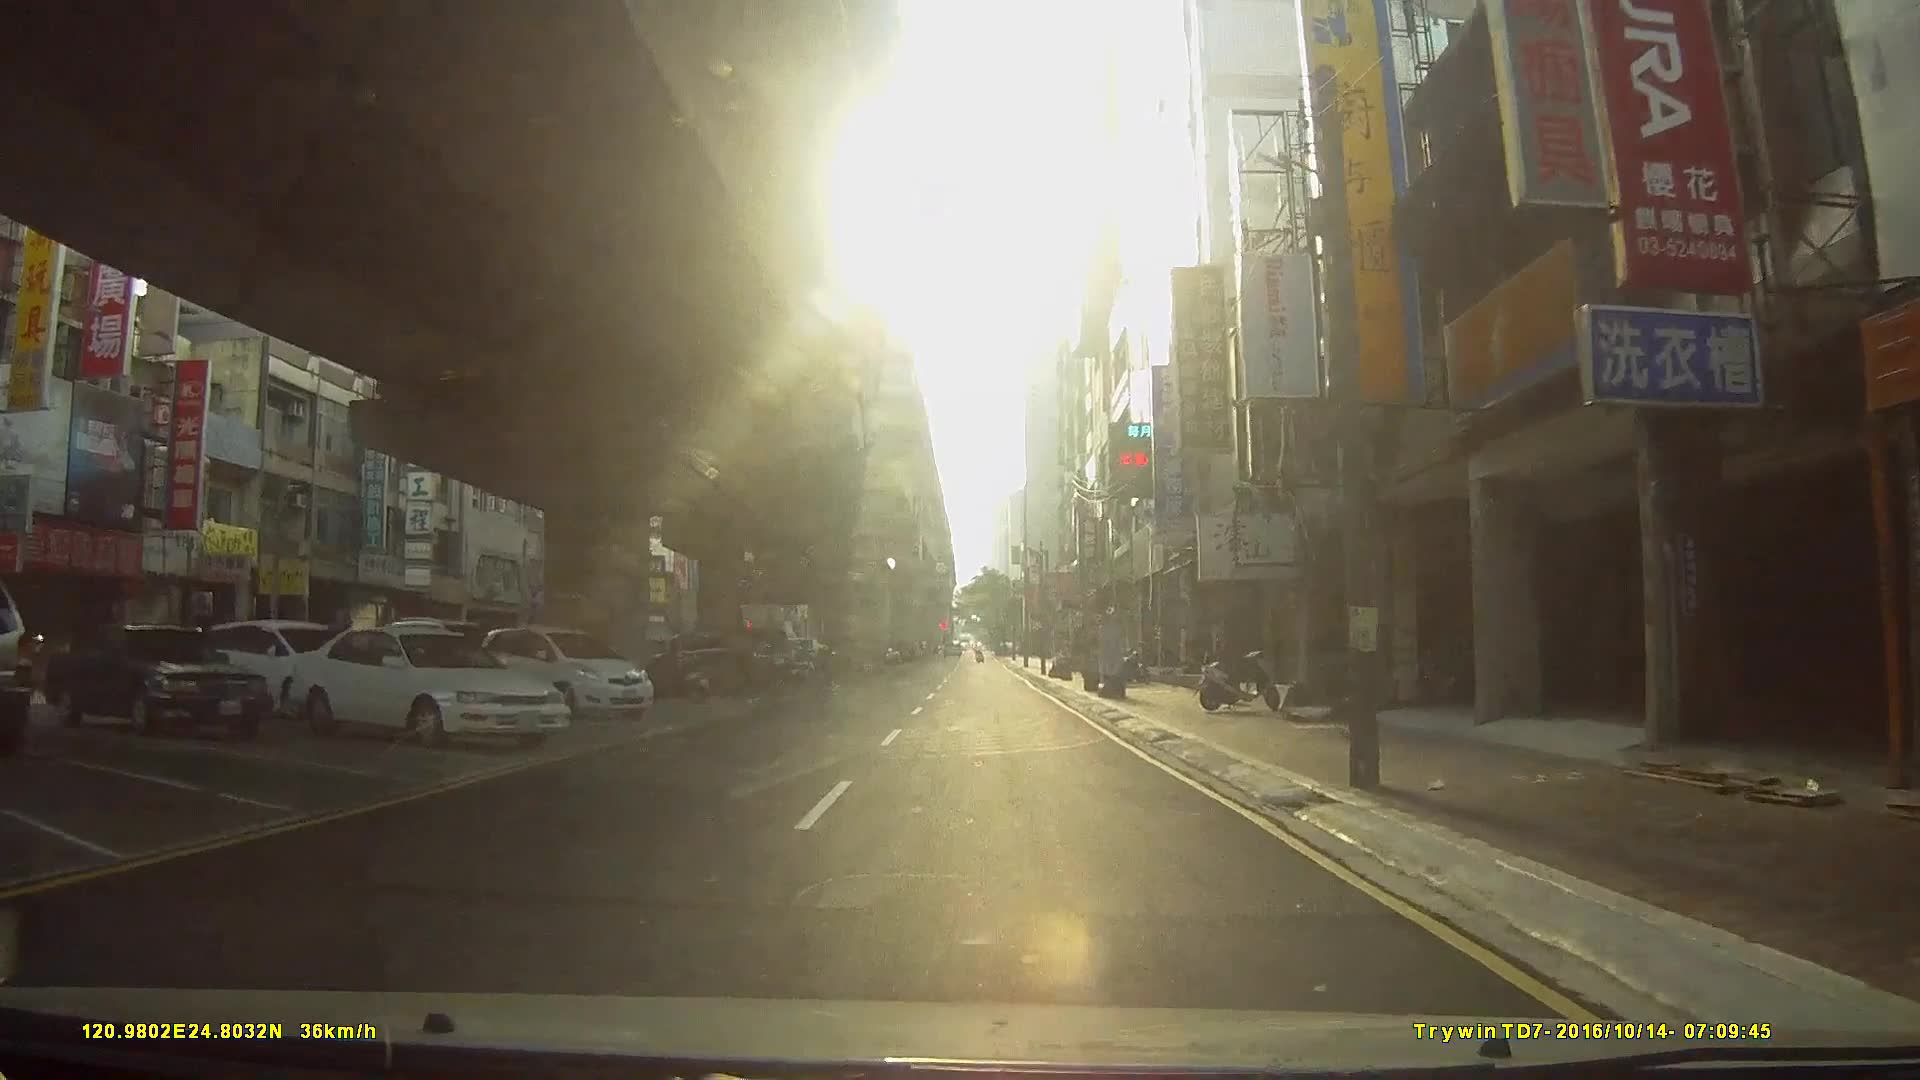vehicle: (284, 624, 567, 748), (42, 622, 272, 733), (475, 622, 653, 717), (200, 620, 353, 717)
